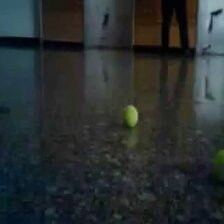tennis: (124, 104, 139, 127)
